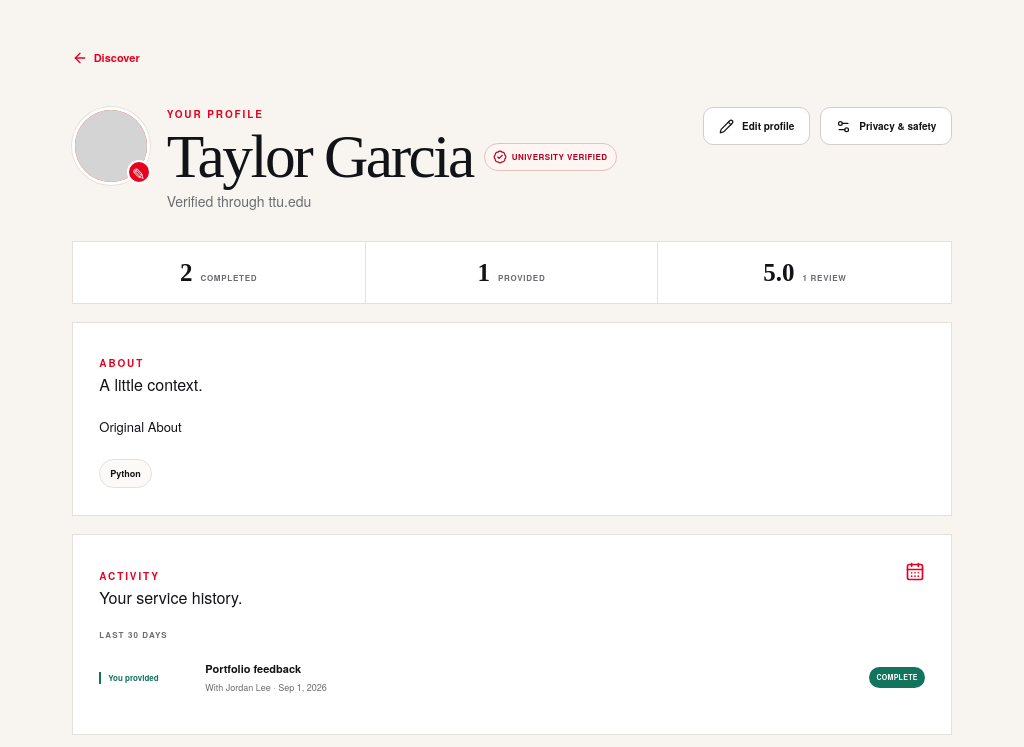
Test: own profile preview › discards a preview draft on cancel and saves only when requested
Click the button "Edit profile" at (757, 126), box [703,107,810,145]
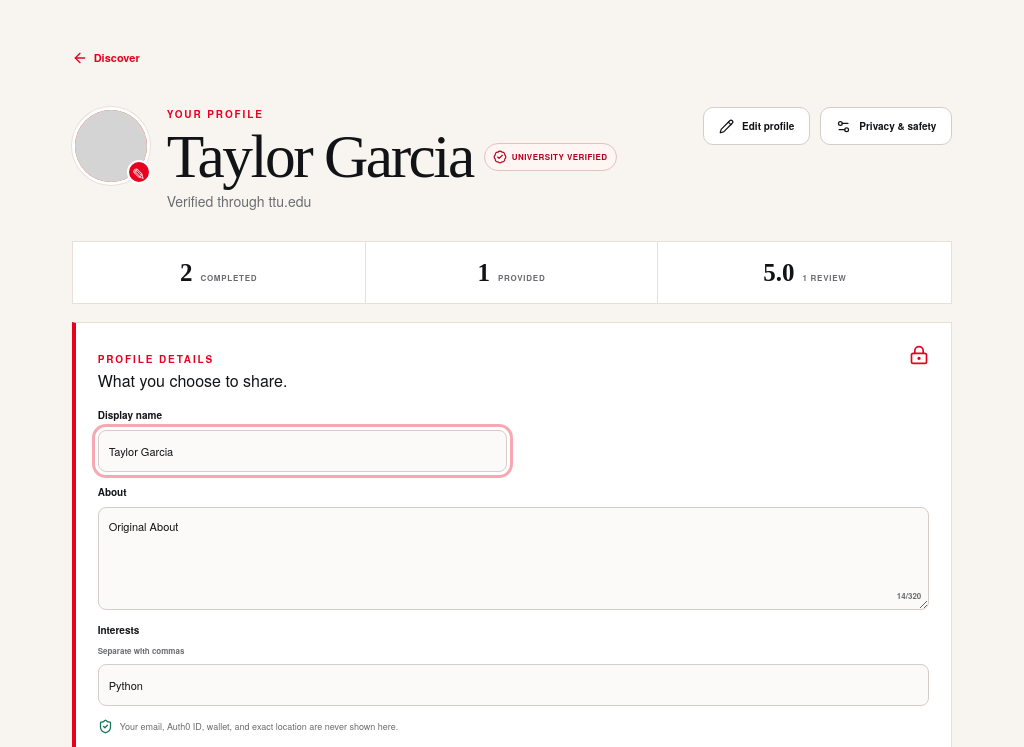
Replace the text in the text box with placeholder "A short introduction for students you work with" with "Unsaved About" at (514, 558), box [98,507,929,610]
(page scrolled)
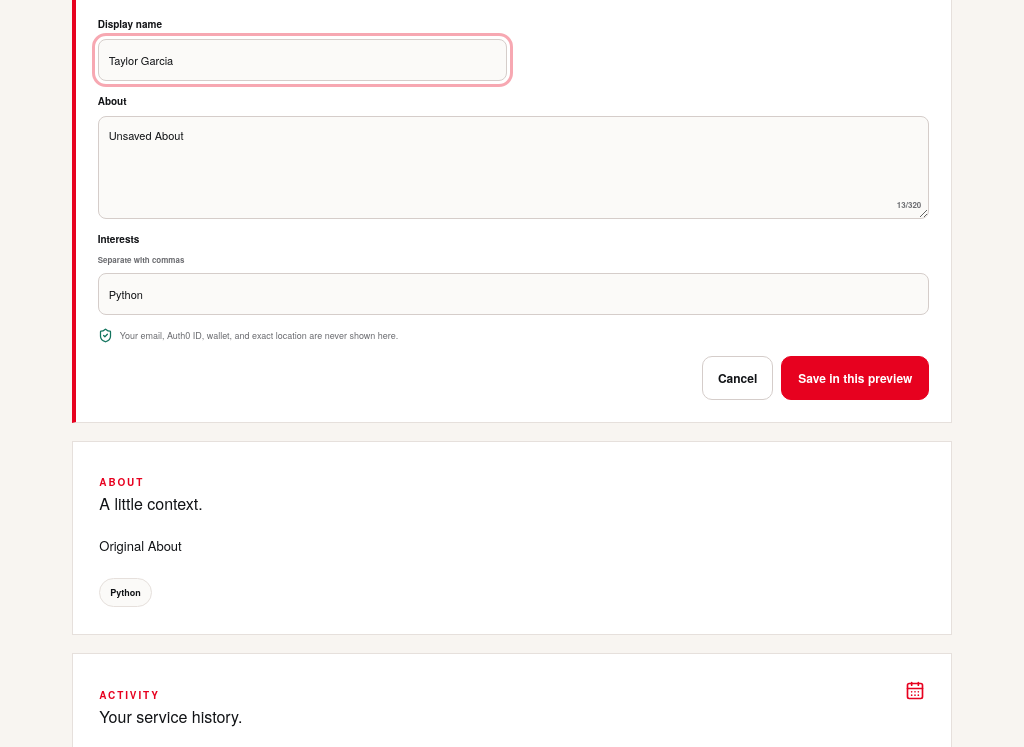
Click the button "Cancel" at (738, 378), box [702,356,773,400]
(page scrolled)
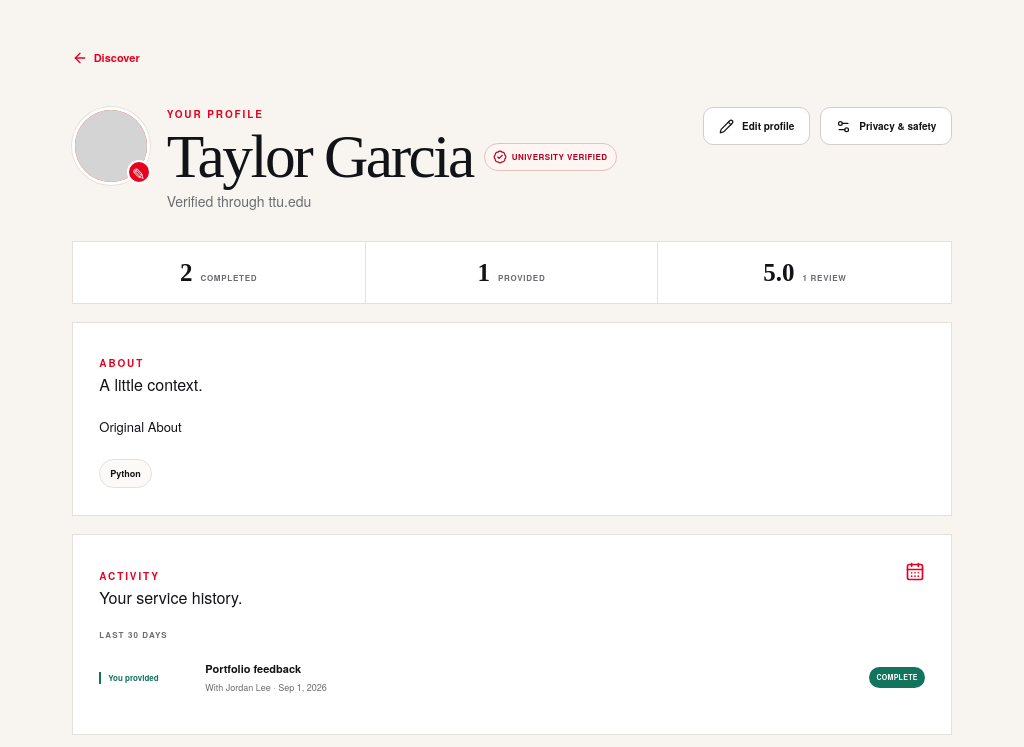
Expected: the text "Original About" is shown, [99,417,182,436]
Click the button "Edit profile" at (757, 126), box [703,107,810,145]
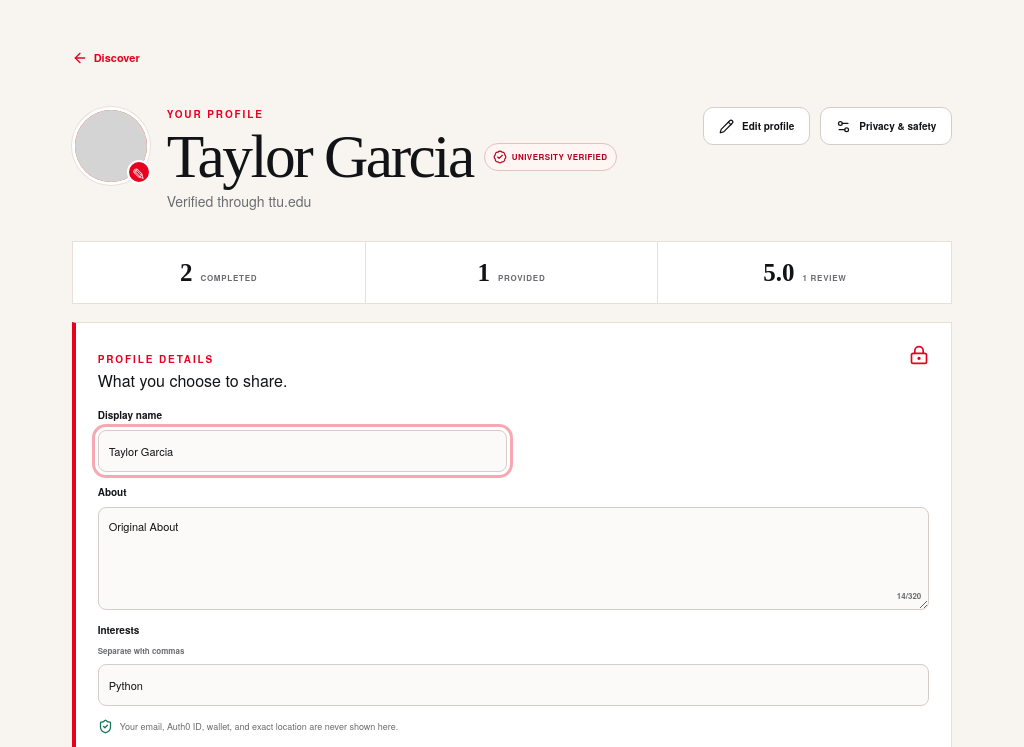
Replace the text in the text box with placeholder "A short introduction for students you work with" with "Saved preview About" at (514, 558), box [98,507,929,610]
(page scrolled)
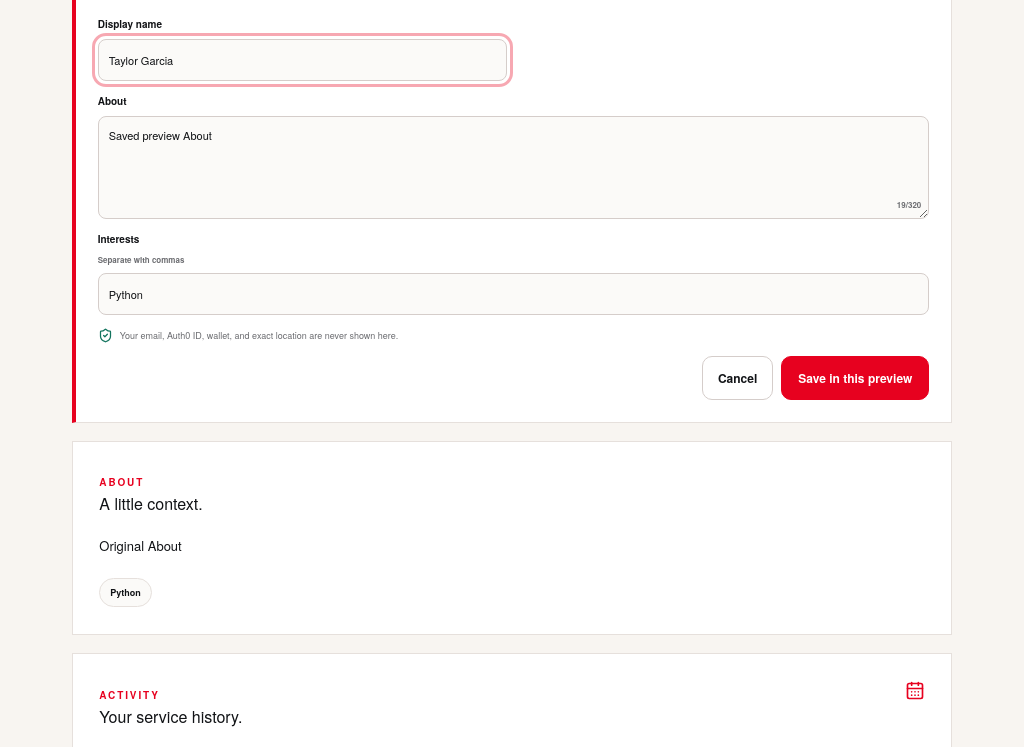
Click the button "Save in this preview" at (855, 378), box [781,356,929,400]
(page scrolled)
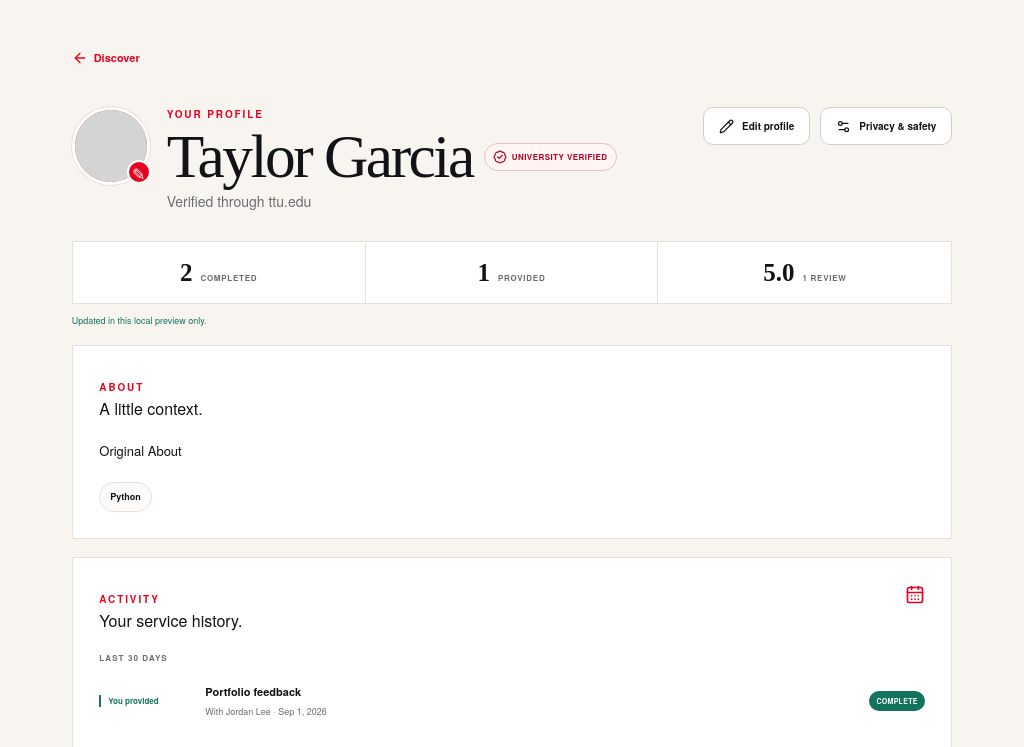
Expected: the text "Updated in this local preview only." is shown, [72,314,207,327]
